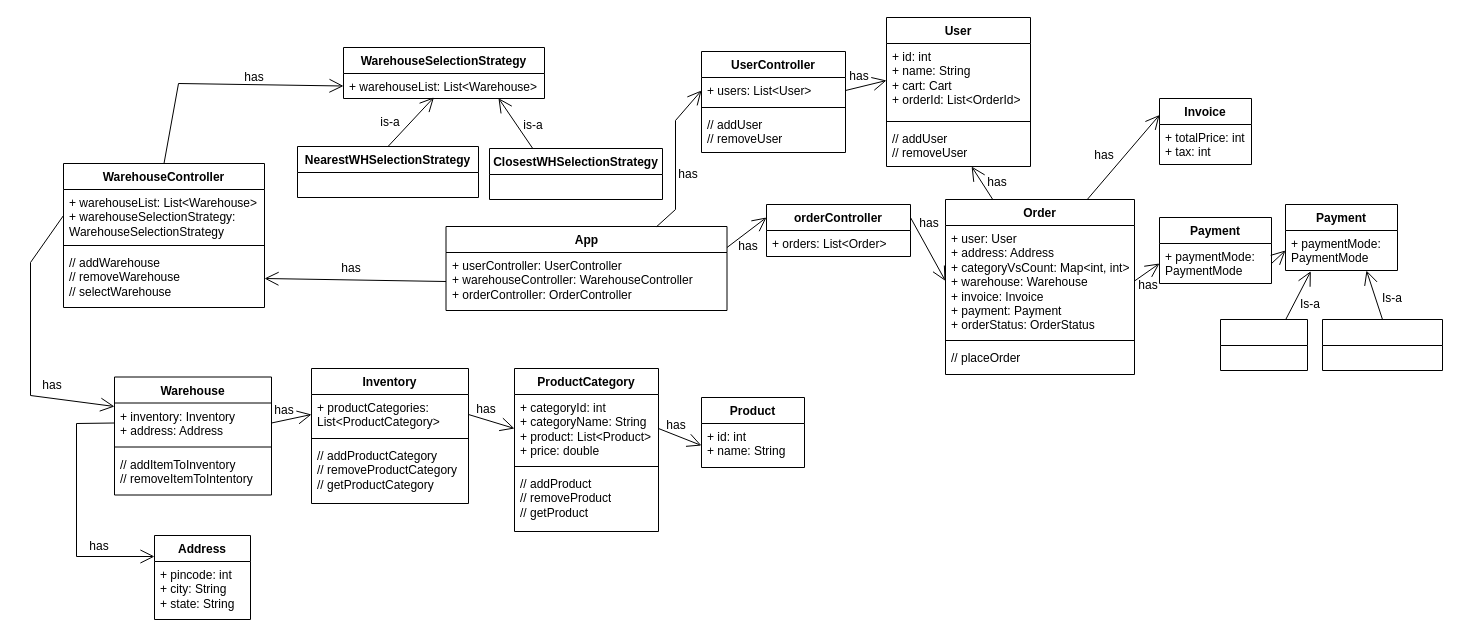
Some shapes in this 1460 by 640 pixel diagram are drawn without their labels. Here are the shapes that lost their labels. From the top down, the centre of each, then its label:
At point (1264, 344): "UPIPayment".
At point (1382, 344): "CreditCardPayment".
